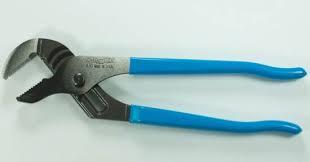pliers: (1, 37, 307, 134)
